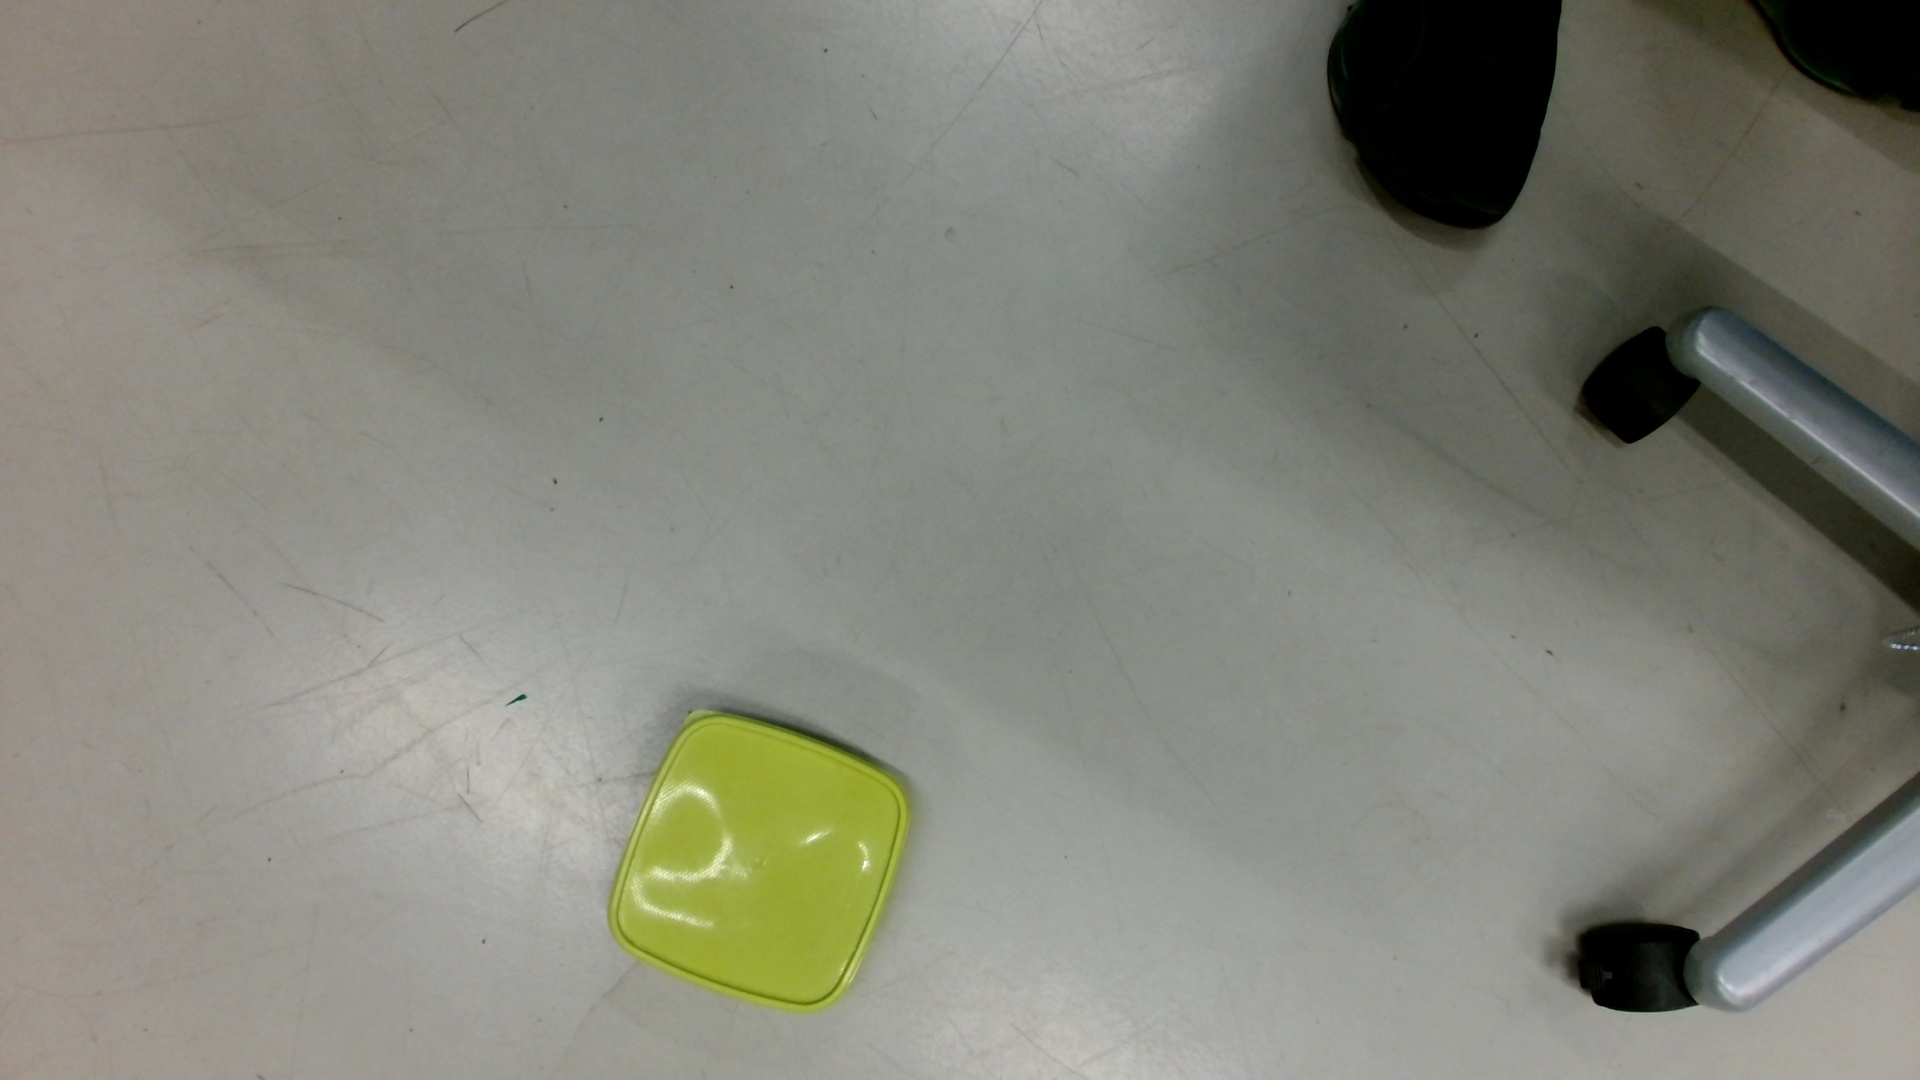Box: (604, 703, 916, 1019)
